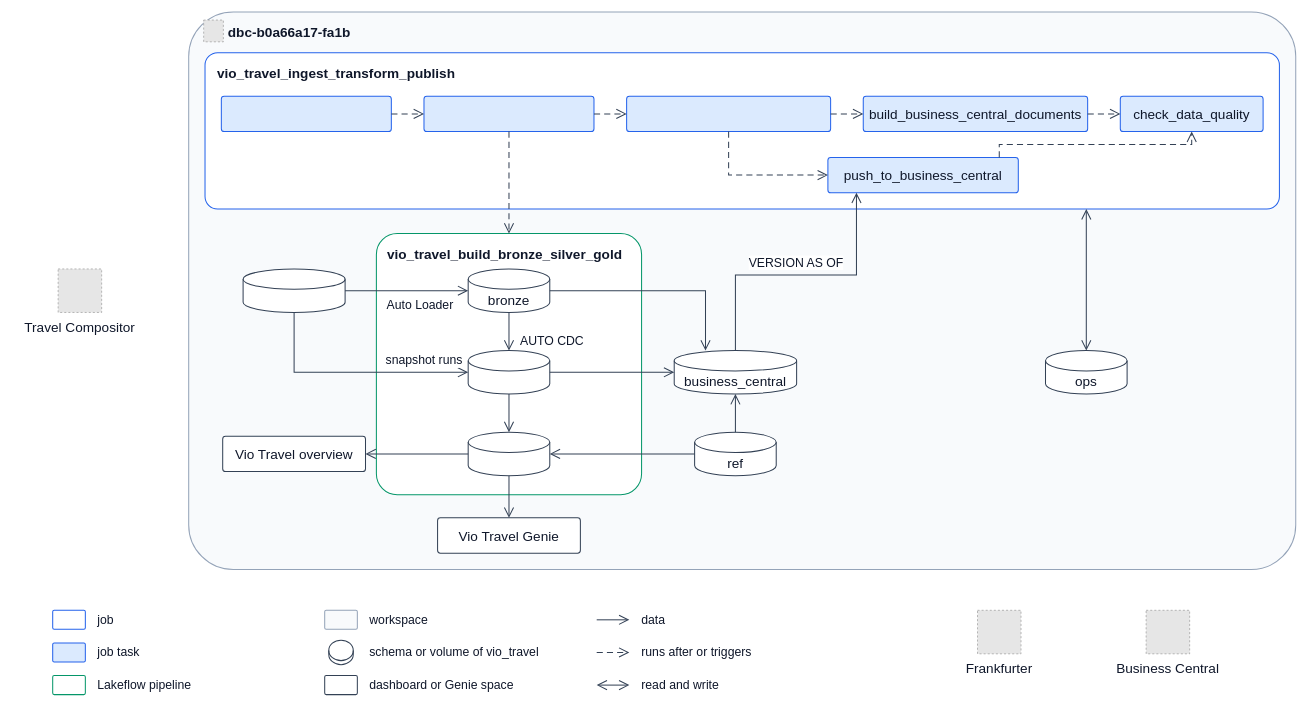
Image size: 1308x708. Some labels were removed from this diagram. Grey dashed boxes stand in for pictures. The centre of each missing label's shape, as x and y in pixels:
build_bronze_silver_gold: pixel 508 113
build_business_central_tables: pixel 728 113
extract_travel_compositor: pixel 306 113
gold: pixel 508 453
raw.landing: pixel 293 290
silver: pixel 508 372
